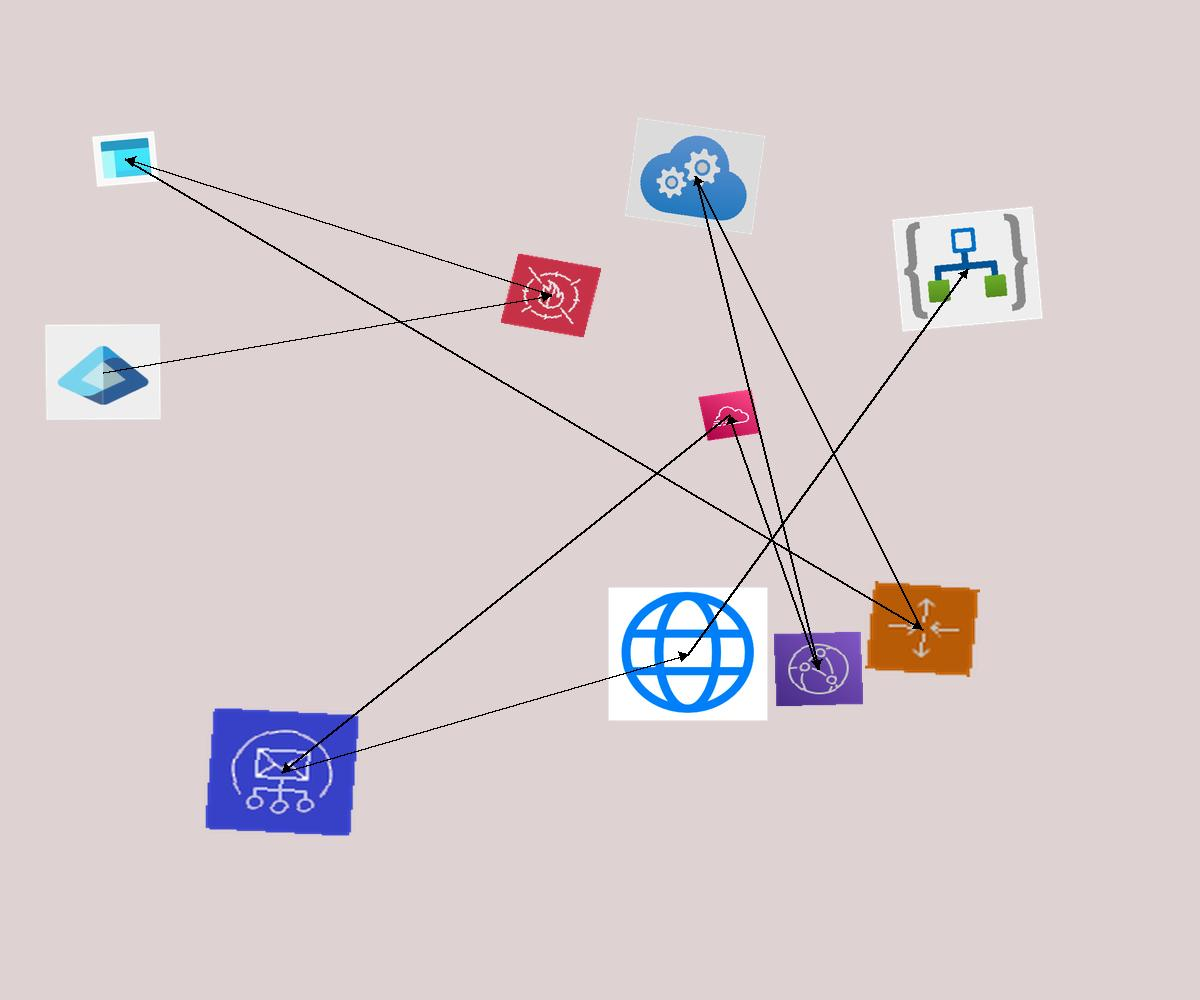AWS-CloudFront: (773, 631, 864, 707)
AWS-CloudTrail: (698, 389, 761, 441)
AWS-Scaling-group: (865, 581, 980, 677)
AWS-Simple-Email-Service: (204, 707, 360, 837)
AWS-WAF: (500, 253, 602, 338)
Azure_cloud_services: (624, 117, 766, 235)
Azure_http: (608, 587, 768, 721)
Azure_integration-204-Logic-Apps: (892, 206, 1043, 332)
Azure_management-portal: (92, 131, 159, 187)
Azure_microsoft_entra: (45, 324, 161, 420)
